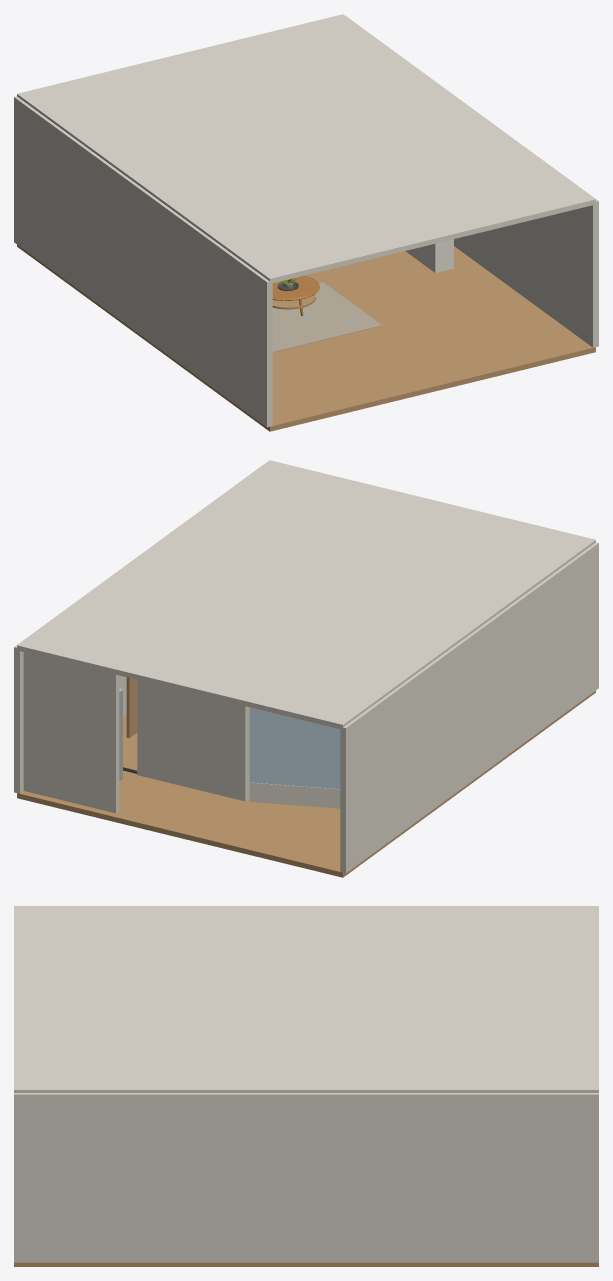
The model's file is old-home-scan.glb.
The picture shows the model from 3 angles, top to bottom: view 1: azimuth 30°, elevation 25°; view 2: azimuth 150°, elevation 25°; view 3: azimuth 270°, elevation 25°; orthographic projection. The views are drawn at different scales.
Parts seen in each view (by area): view 1: scan-ceiling, scan-left-wall, scan-floor, scan-right-wall, scan-rug, scan-entry-console, scan-output_unwrapped.001; view 2: scan-ceiling, scan-left-wall, scan-floor, scan-kitchen-back-wall, scan-bookcase-work-wall, scan-window-view, scan-right-wall, scan-window-sill, scan-entry-door; view 3: scan-ceiling, scan-right-wall, scan-floor.
Boxes of the visible parts, x1,y1,x2,y2 form: scan-ceiling: (17, 14, 595, 283); scan-left-wall: (14, 96, 272, 427); scan-floor: (17, 244, 595, 431); scan-right-wall: (346, 16, 598, 347); scan-rug: (272, 282, 382, 352); scan-entry-console: (405, 239, 453, 272); scan-output_unwrapped.001: (272, 276, 319, 316); scan-ceiling: (17, 460, 595, 729); scan-left-wall: (340, 542, 598, 873); scan-floor: (17, 690, 595, 877); scan-kitchen-back-wall: (23, 652, 119, 813); scan-bookcase-work-wall: (137, 680, 249, 801); scan-window-view: (249, 707, 340, 788); scan-right-wall: (14, 462, 266, 793); scan-window-sill: (249, 782, 340, 808); scan-entry-door: (126, 677, 137, 738); scan-ceiling: (14, 906, 598, 1092); scan-right-wall: (14, 1093, 598, 1262); scan-floor: (14, 1262, 598, 1266).
Bounding box in the file's own units: 6.82 × 3 × 9.
Materials: 12 (5 with a texture image).
